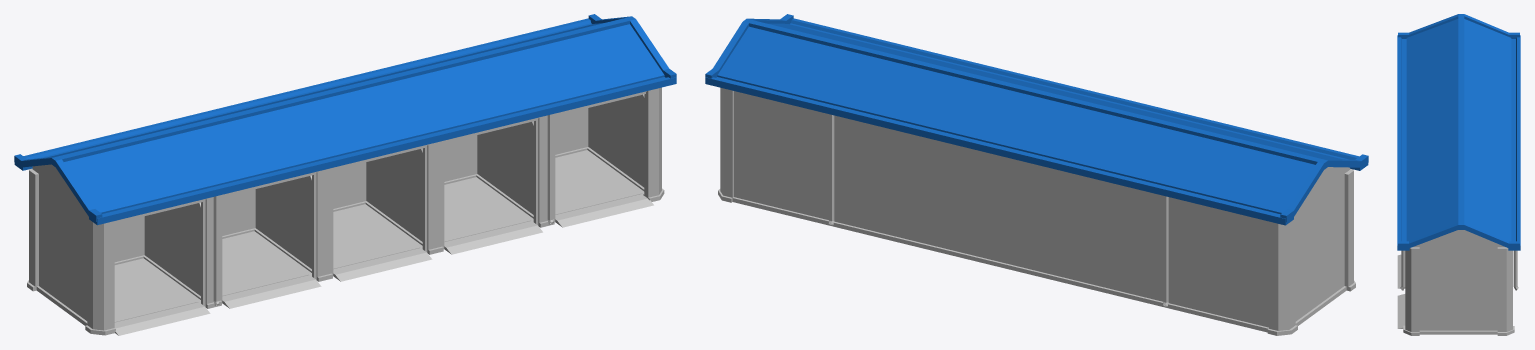
Rendered from HALF_luggage_storage.fbx.
The picture shows the model from 3 angles, left to right: view 1: azimuth 30°, elevation 25°; view 2: azimuth 150°, elevation 25°; view 3: azimuth 270°, elevation 25°; orthographic projection. The views are drawn at different scales.
Parts seen in each view (by area): view 1: Cube_6; view 2: Cube_6; view 3: Cube_6.
Boxes of the visible parts, bbox=[...] form: Cube_6: bbox=[14, 14, 676, 335]; Cube_6: bbox=[705, 14, 1368, 335]; Cube_6: bbox=[1397, 14, 1520, 335].
Size of the model in its own units: 1308 by 325 by 322.
